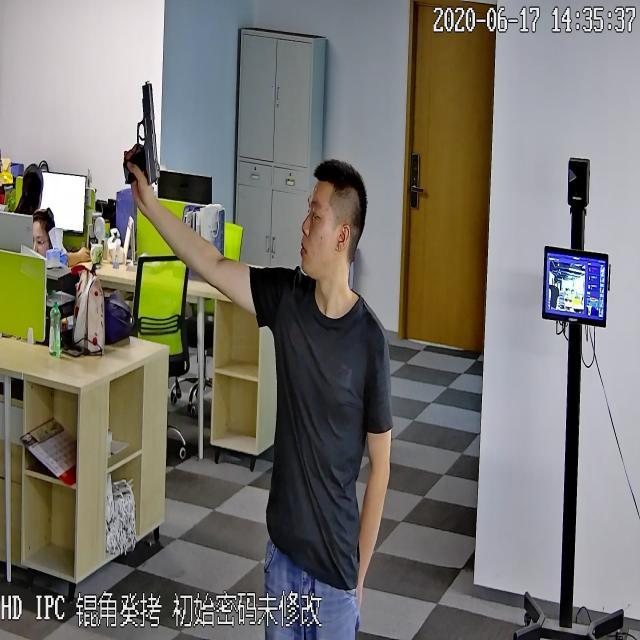gun-knife-thesis - v11 Yolov5 augmented: (122, 80, 164, 199)
